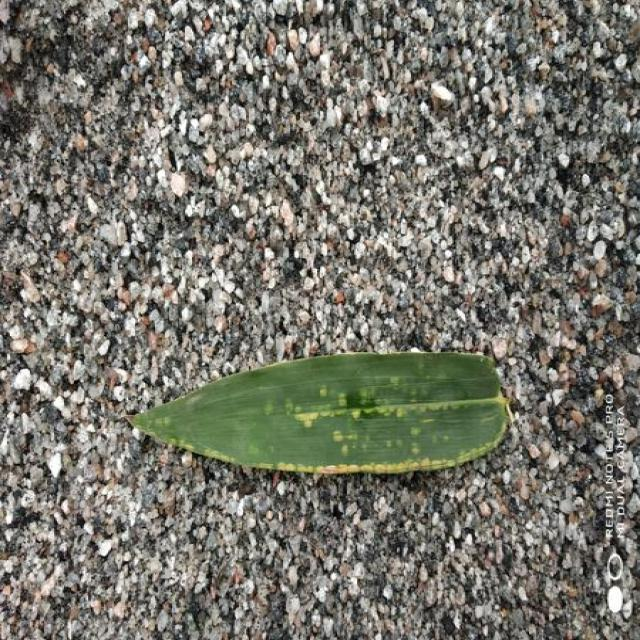Bamboo: (130, 352, 508, 474)
defectedBamboo: (270, 355, 507, 449)
